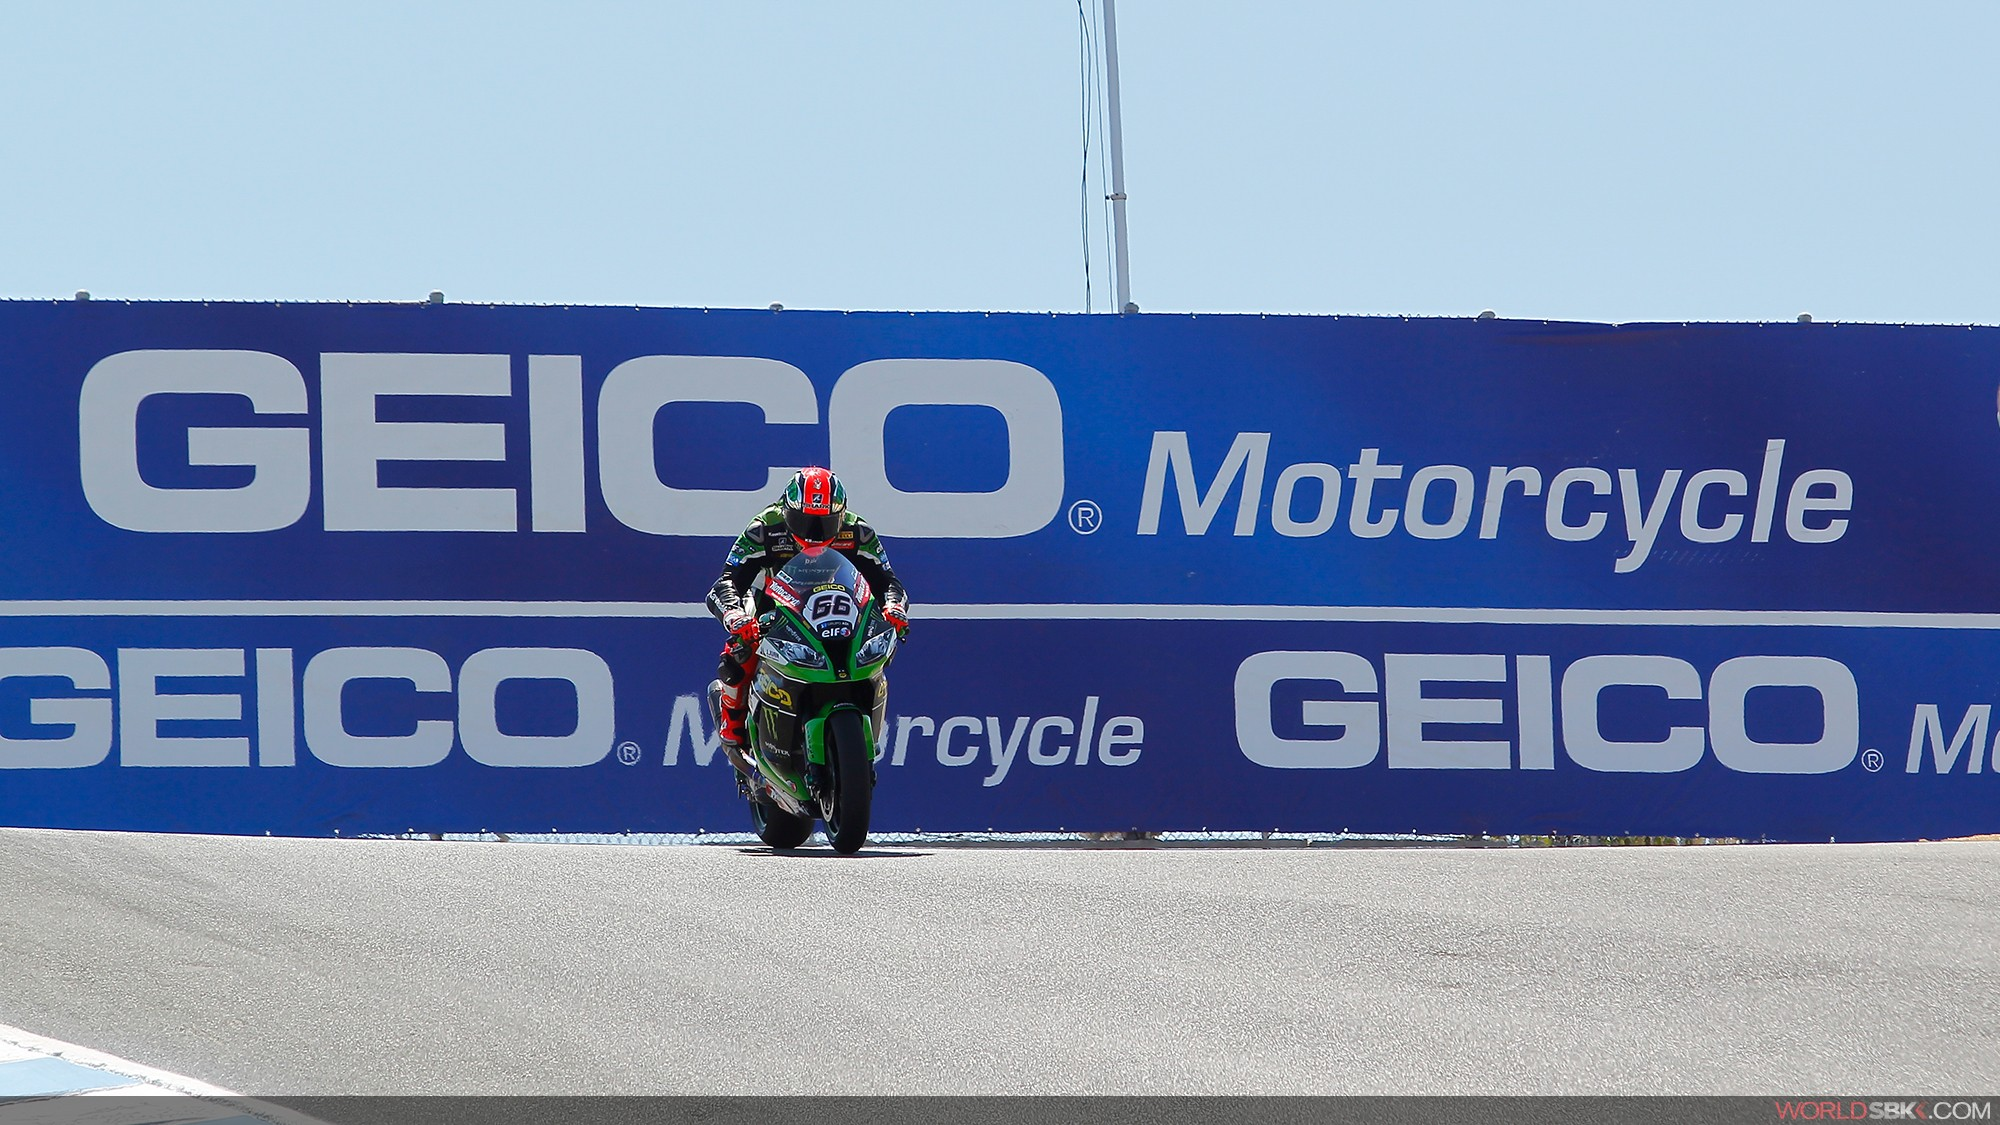geico: (70, 321, 1104, 559), (1221, 635, 1923, 795), (1, 646, 651, 791)
